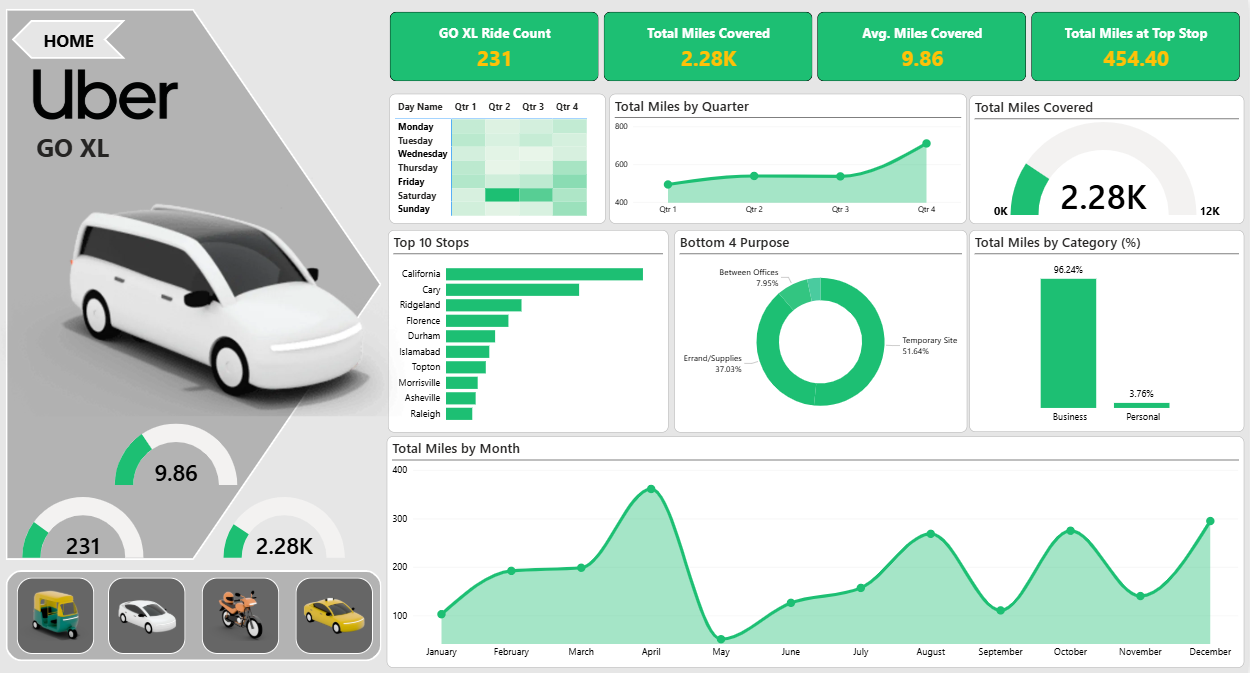

Layout of this report page (visuals, bound fields, positions):
{"tool":"powerbi","page":{"name":"UBER GO XL","canvas":[2000,1080],"ordinal":5},"visuals":[{"type":"cardVisual","fields":{"Data":["UberDataset.GO XL Ride Count","UberDataset.Total Miles","Avg(UberDataset.MILES)","UberDataset.hightest stop name"]},"box":[622.9,14.8,1371,121],"z":0},{"type":"lineChart","title":"Total Miles by Month","fields":{"Category":["UberDataset.Date.Variation.Date Hierarchy.Month"],"Y":["UberDataset.Total Miles"]},"box":[622.9,698.1,1371.7,370],"z":1000},{"type":"donutChart","title":"Bottom 4 Purpose","fields":{"Y":["Sum(UberDataset.MILES)"],"Category":["UberDataset.PURPOSE"]},"box":[1081.2,367.7,468.6,324.3],"z":2000},{"type":"clusteredBarChart","title":"Top 10 Stops","fields":{"Category":["UberDataset.STOP"],"Y":["Sum(UberDataset.MILES)"]},"box":[625,367.3,448.8,323.8],"z":3000},{"type":"pivotTable","fields":{"Rows":["UberDataset.Day Name"],"Values":["Sum(UberDataset.MILES)"],"Columns":["UberDataset.Date.Variation.Date Hierarchy.Quarter"]},"box":[625.2,150.8,346,208],"z":4000},{"type":"clusteredColumnChart","title":"Total Miles by Category (%)","fields":{"Category":["UberDataset.Category"],"Y":["Sum(UberDataset.MILES)"]},"box":[1554.5,368.1,440,323.3],"z":5000},{"type":"lineChart","fields":{"Category":["UberDataset.Date.Variation.Date Hierarchy.Quarter"],"Y":["UberDataset.Total Miles"]},"box":[977.2,150.8,572,208],"z":6000},{"type":"gauge","title":"Total Miles Covered","fields":{"MaxValue":["UberDataset.Total Miles"],"Y":["UberDataset.Total Mile GO XL"]},"box":[1554.5,151.5,440,206.7],"z":7000},{"type":"shape","box":[12,14,602,882],"z":8000},{"type":"image","box":[0,190,686,566],"z":9000},{"type":"gauge","title":"Total Miles Covered by Auto","fields":{"MaxValue":["UberDataset.Total Miles"],"Y":["UberDataset.Total Mile GO XL"]},"box":[355.6,776.4,204,136],"z":10000},{"type":"gauge","title":"Total Miles Covered by Auto","fields":{"MaxValue":["CountNonNull(UberDataset.MILES)"],"Y":["UberDataset.GO XL Ride Count"]},"box":[33.6,776.4,204,136],"z":11000},{"type":"gauge","title":"Total Miles Covered by Auto","fields":{"MaxValue":["UberDataset.Avg Triple"],"Y":["UberDataset.Avg. GO XL"]},"box":[181.6,658.4,206,138],"z":12000},{"type":"shape","box":[12,912,602,146],"z":13000},{"type":"image","box":[30,924,124,122],"z":14000},{"type":"image","box":[475.3,924,124,122],"z":15000},{"type":"image","box":[325.3,924.7,124,122],"z":16000},{"type":"image","box":[175.3,924,124,122],"z":17000},{"type":"image","box":[22.5,43.8,300,215],"z":18000},{"type":"textbox","title":"GO XL","box":[55,207.5,135,60],"z":19000},{"type":"pageNavigator","box":[22.5,32.5,182.5,62.5],"z":20000}]}

Visuals, with their boxes in screenshot pixels (x1, y1, x2, y2), scaled from the page's 2000x1080 canvas onto the 1250x673 screenshot:
cardVisual - UberDataset.GO XL Ride Count x UberDataset.Total Miles: (left=389, top=9, right=1246, bottom=85)
"Total Miles by Month" lineChart: (left=389, top=435, right=1247, bottom=666)
"Bottom 4 Purpose" donutChart: (left=676, top=229, right=969, bottom=431)
"Top 10 Stops" clusteredBarChart: (left=391, top=229, right=671, bottom=431)
pivotTable - UberDataset.Day Name x Sum(UberDataset.MILES): (left=391, top=94, right=607, bottom=224)
"Total Miles by Category (%)" clusteredColumnChart: (left=972, top=229, right=1247, bottom=431)
lineChart - UberDataset.Date.Variation.Date Hierarchy.Quarter x UberDataset.Total Miles: (left=611, top=94, right=968, bottom=224)
"Total Miles Covered" gauge: (left=972, top=94, right=1247, bottom=223)
shape: (left=8, top=9, right=384, bottom=558)
image: (left=0, top=118, right=429, bottom=471)
"Total Miles Covered by Auto" gauge: (left=222, top=484, right=350, bottom=569)
"Total Miles Covered by Auto" gauge: (left=21, top=484, right=148, bottom=569)
"Total Miles Covered by Auto" gauge: (left=114, top=410, right=242, bottom=496)
shape: (left=8, top=568, right=384, bottom=659)
image: (left=19, top=576, right=96, bottom=652)
image: (left=297, top=576, right=375, bottom=652)
image: (left=203, top=576, right=281, bottom=652)
image: (left=110, top=576, right=187, bottom=652)
image: (left=14, top=27, right=202, bottom=161)
"GO XL" textbox: (left=34, top=129, right=119, bottom=167)
pageNavigator: (left=14, top=20, right=128, bottom=59)
